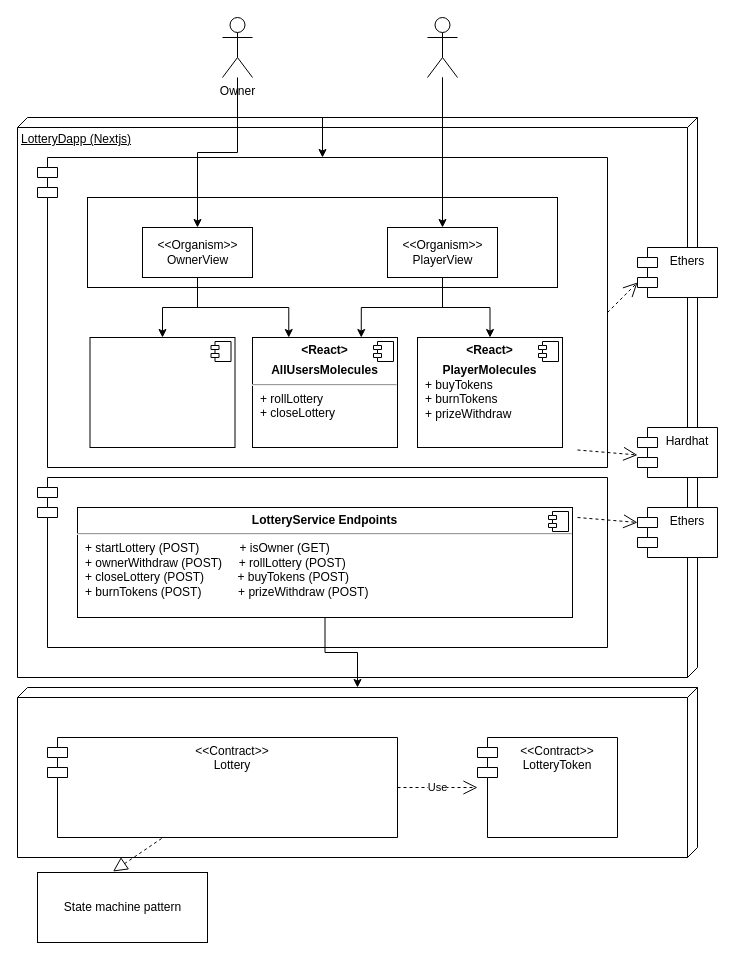
The diagram is 735 pixels wide and 960 high, and some of its shapes have lost their labels. Here are the shapes that lost their labels. From the top down, the box of each, then its label:
(426, 16, 458, 78): Player
(86, 196, 558, 288): <<Page>> Index
(36, 156, 608, 468): Frontend
(89, 336, 235, 448): <React> OwnerMolecules + startLottery + ownerWithdraw
(36, 476, 608, 648): Backend
(16, 686, 698, 858): Ethereum Testnet (Goerli)
